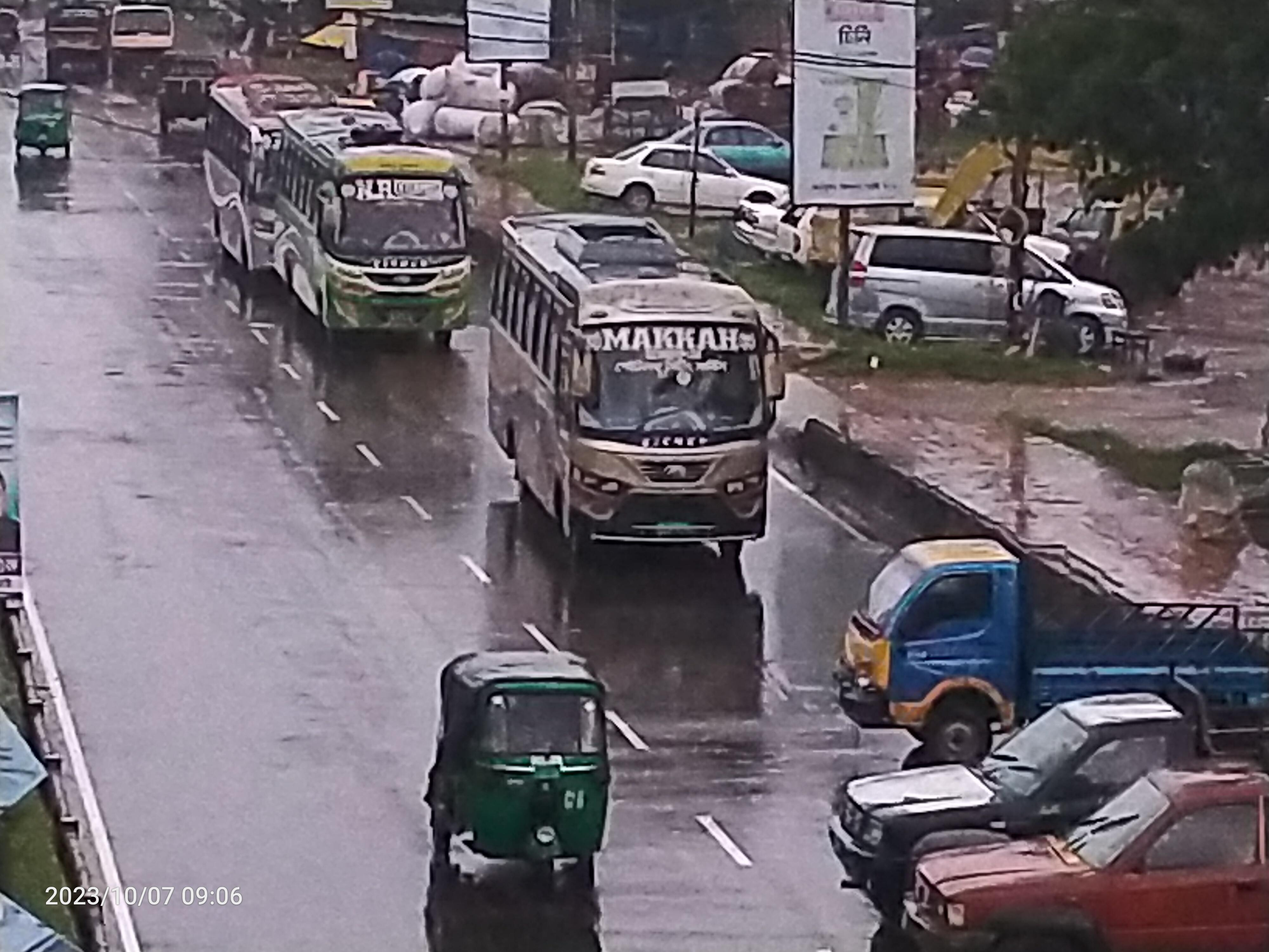Bus: (476, 193, 808, 580), (257, 98, 494, 378), (174, 54, 296, 305)
Car: (826, 205, 1165, 362), (556, 133, 819, 223), (647, 105, 828, 176), (733, 180, 813, 269)
Truck: (828, 530, 1269, 781), (867, 763, 1269, 952), (799, 680, 1269, 828)
